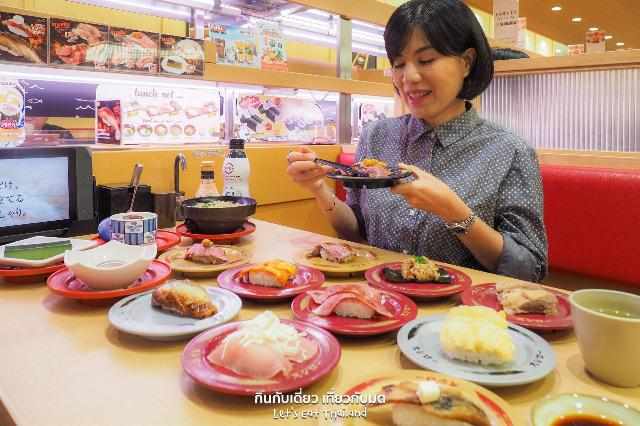janback: (323, 162, 427, 189)
jangold: (362, 373, 523, 426), (296, 241, 387, 276), (155, 245, 266, 272)
janwhite: (405, 315, 571, 385), (115, 292, 253, 339)
